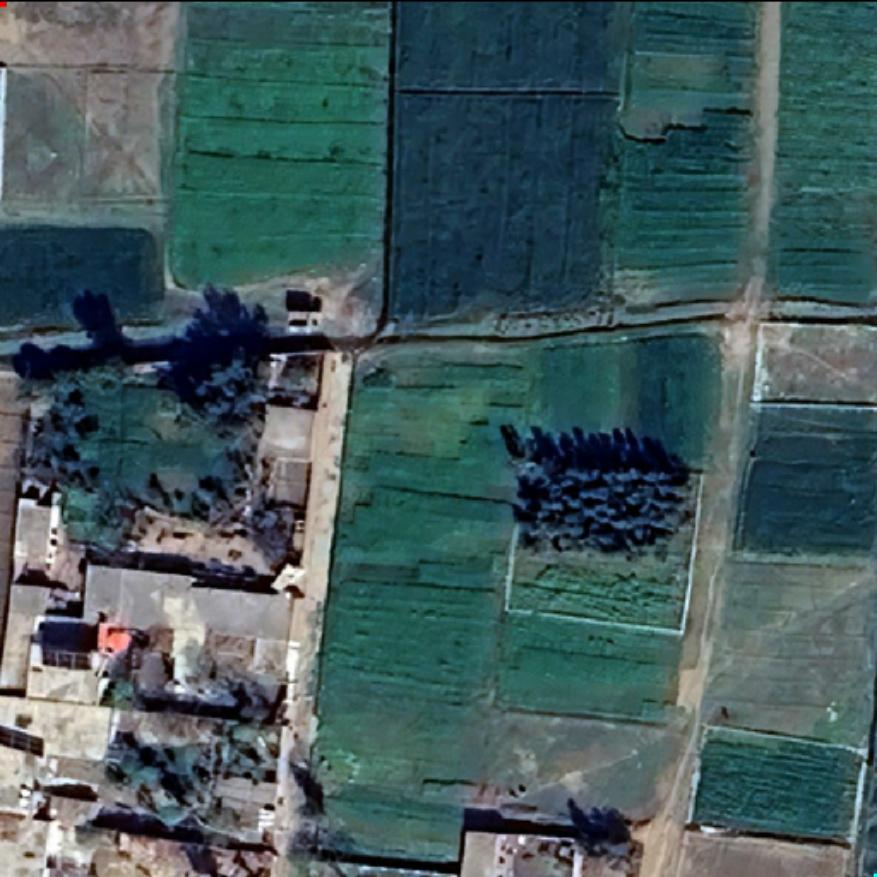Solarpanel: (37, 641, 95, 673), (0, 726, 45, 762)
